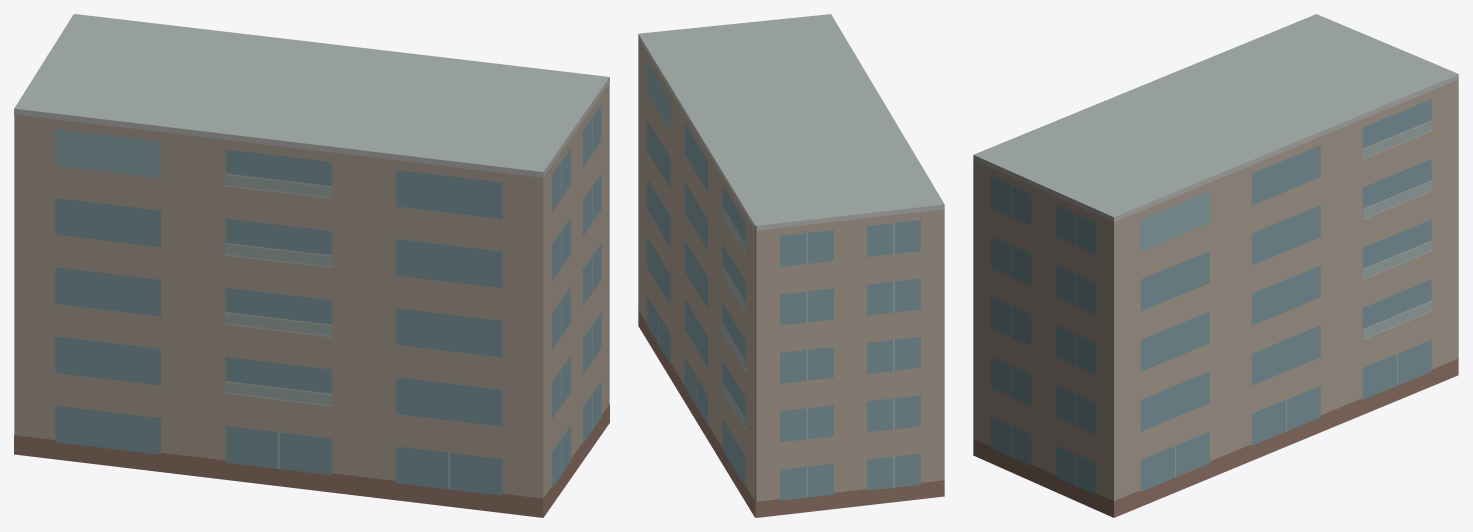
Rendered from survey-upis-33019056.glb.
3 renders of one model, left to right at view 1: azimuth 30°, elevation 25°; view 2: azimuth 150°, elevation 25°; view 3: azimuth 270°, elevation 25°, orthographic. The views are drawn at different scales.
Parts seen in each view (by area): view 1: survey-upis-33019056.tmp; view 2: survey-upis-33019056.tmp; view 3: survey-upis-33019056.tmp.
Boxes of the visible parts, x1=… form: survey-upis-33019056.tmp: x1=14, y1=14, x2=609, y2=517; survey-upis-33019056.tmp: x1=638, y1=14, x2=944, y2=517; survey-upis-33019056.tmp: x1=973, y1=14, x2=1458, y2=517.
Size of the model in its own units: 21.47 by 14.8 by 21.66.
